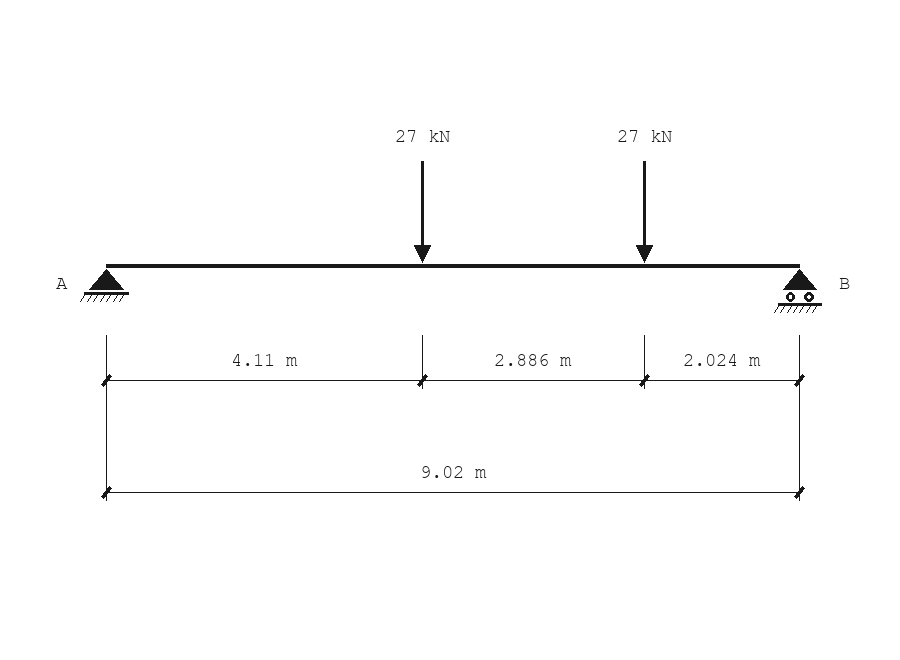pin_support: (80, 269, 129, 302)
point_load: (414, 161, 431, 263), (636, 161, 653, 263)
roller_support: (774, 269, 822, 313)
